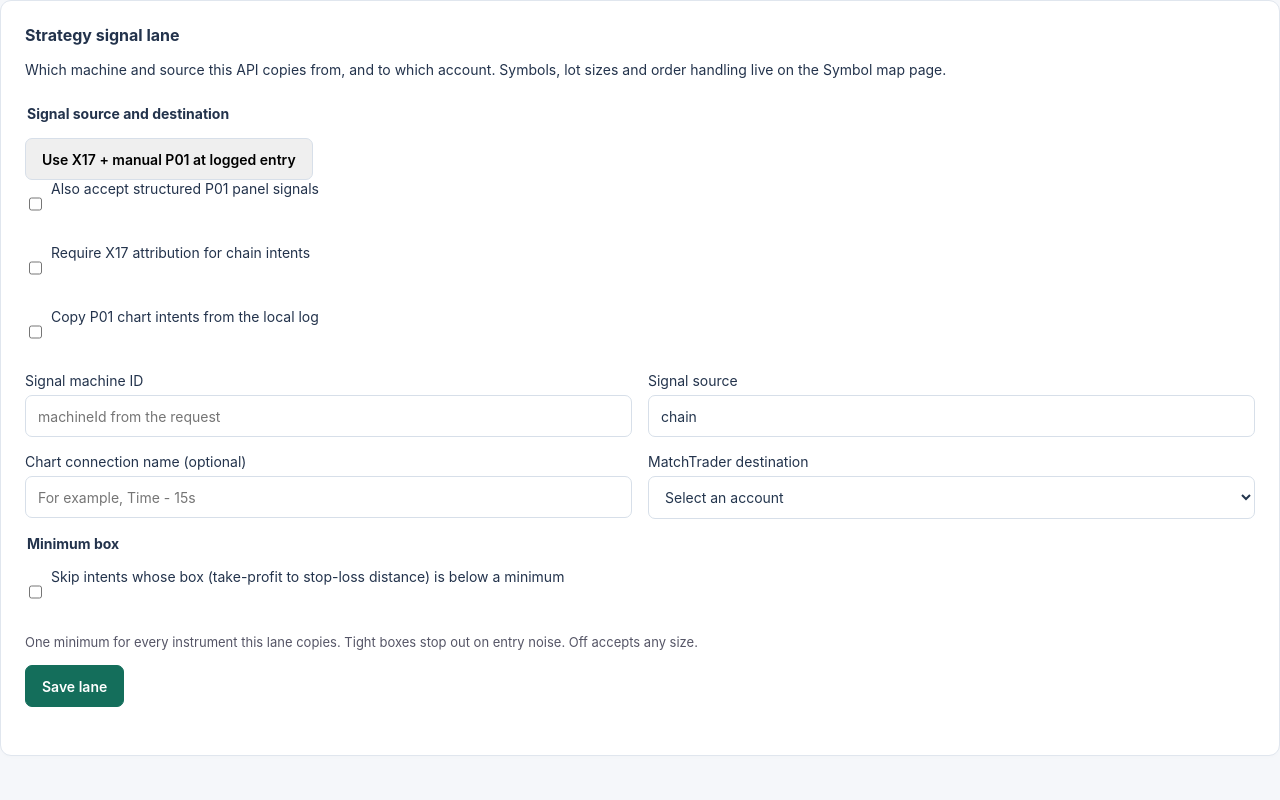
X17 and manual P01 preset selects chain plus panel without arming; unwinding is not a switch
Click the button "Use X17 + manual P01 at logged entry": point(169, 159) left=25, top=138, right=313, bottom=180
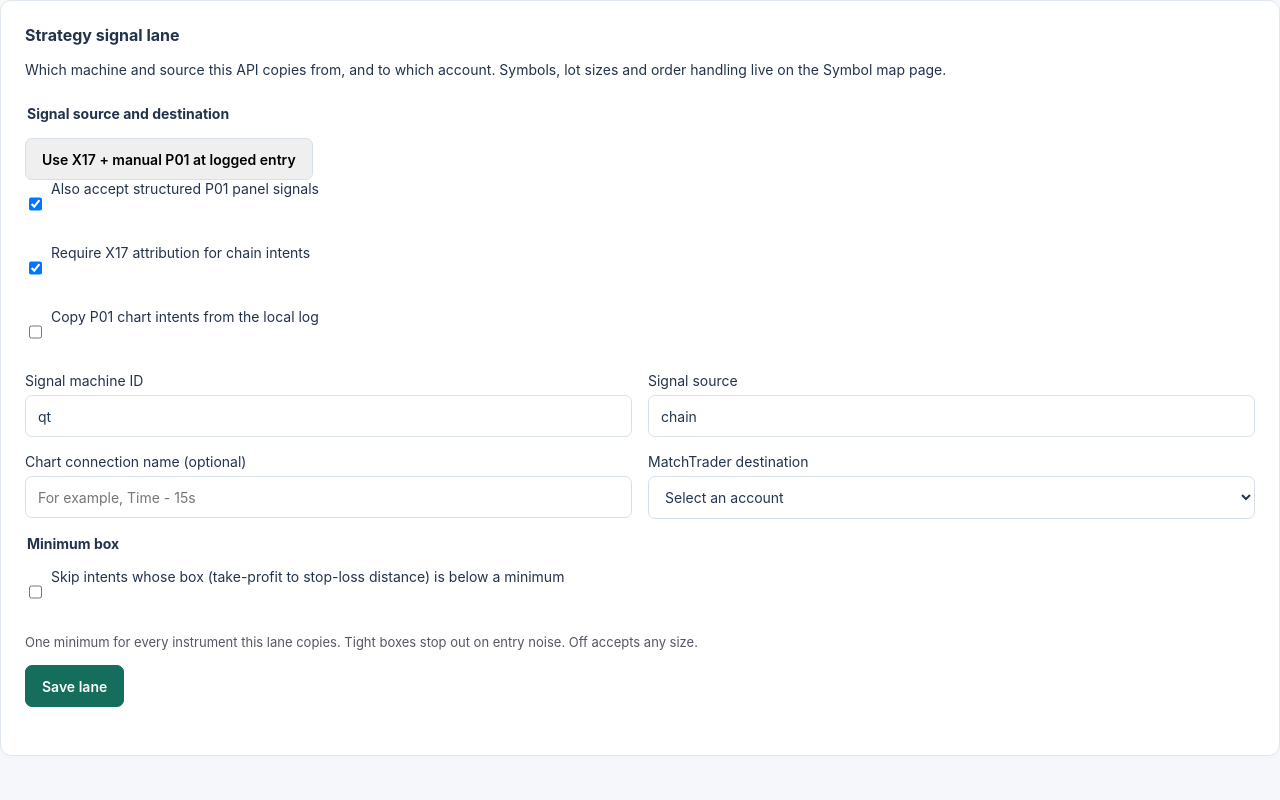
Expected: the checkbox labelled "Copy P01 chart intents from the local log" is not checked, left=29, top=311, right=42, bottom=353
Now the checkbox labelled "Also accept structured P01 panel signals" is checked, box left=29, top=183, right=42, bottom=225
Now the checkbox labelled "Require X17 attribution for chain intents" is checked, box left=29, top=247, right=42, bottom=289
